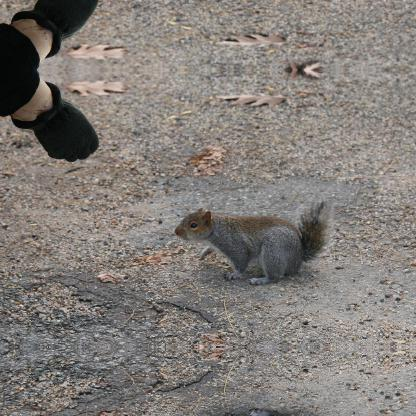Squirrel: (174, 200, 334, 284)
